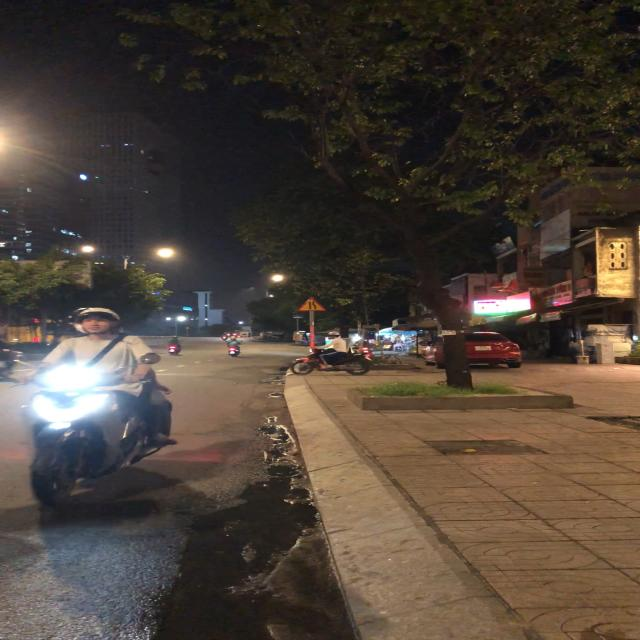Bien bao duong bi thu hep: (294, 296, 330, 313)
